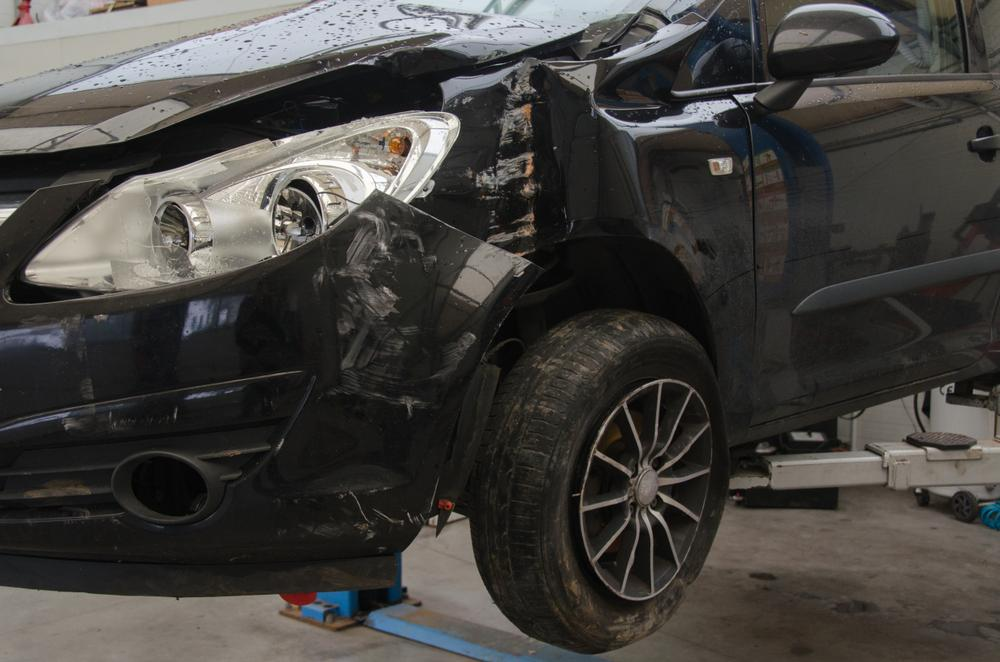dent: (531, 62, 651, 249)
lamp broken: (24, 110, 464, 291)
scratch: (306, 193, 478, 418), (467, 62, 538, 256), (294, 486, 427, 544)
